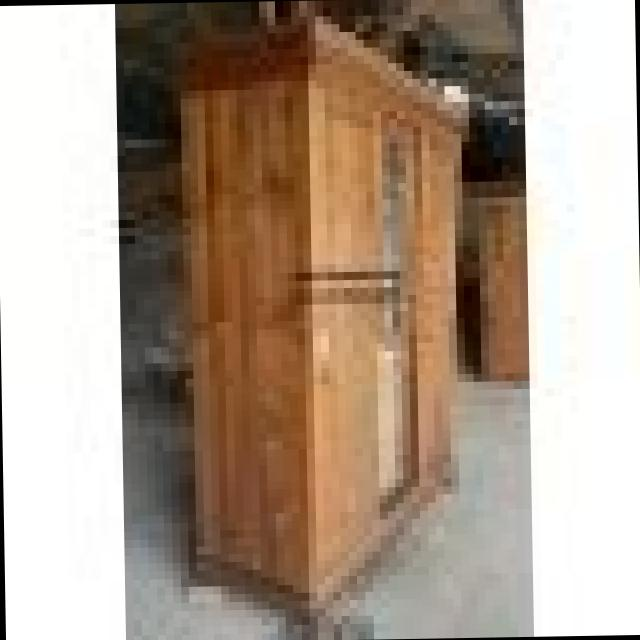Closet: (142, 32, 486, 627)
